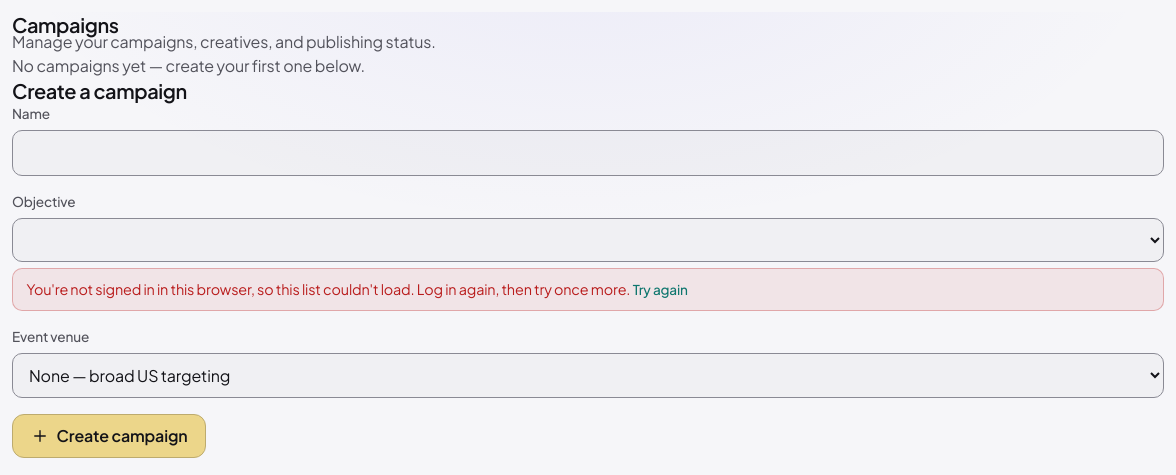
CampaignsSection, when the option lists cannot load › keeps Objective a native select and says why it has no choices, with a way to retry
Expected: the message shows "not signed in", 27,280 -> 630,298
Click the button "Try again" at (660, 290), box 633,280 -> 688,300
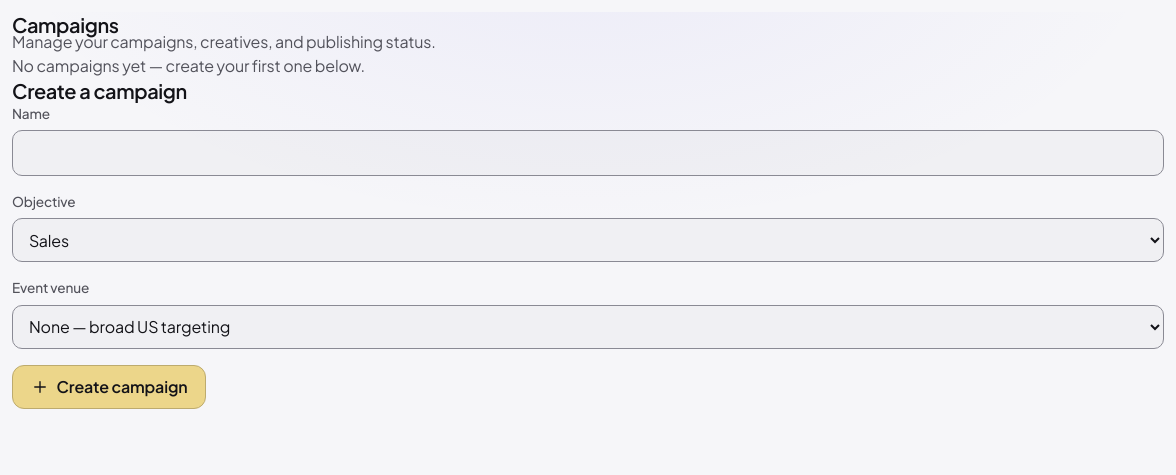
Now the message "You're not signed in in this browser, so this list couldn't load. Log in again," is gone
